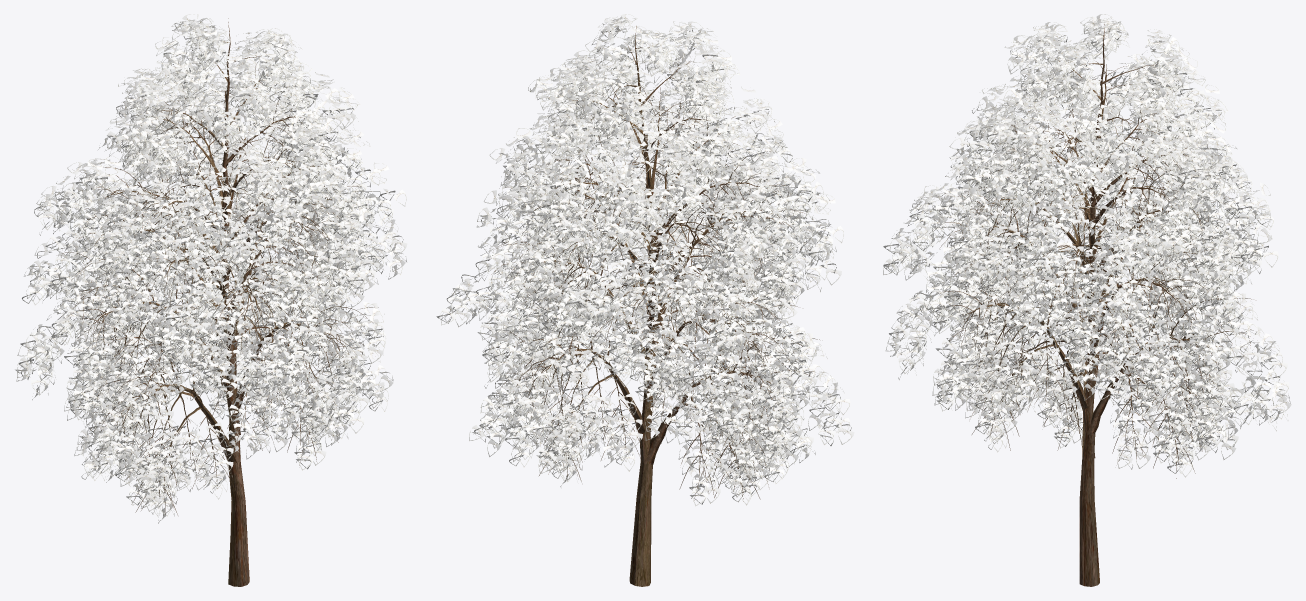
The model's file is tree.FBX.
The picture shows the model from 3 angles, left to right: view 1: azimuth 30°, elevation 25°; view 2: azimuth 150°, elevation 25°; view 3: azimuth 270°, elevation 25°; orthographic projection.
Visible parts, largest first — view 1: sub01, sub02; view 2: sub01, sub02; view 3: sub01, sub02.
Part boxes in pixels (x1=…): sub01: x1=34, y1=14, x2=407, y2=586; sub02: x1=15, y1=124, x2=393, y2=523; sub01: x1=477, y1=14, x2=843, y2=586; sub02: x1=436, y1=122, x2=854, y2=506; sub01: x1=909, y1=14, x2=1278, y2=586; sub02: x1=883, y1=121, x2=1291, y2=477.
Bounding box in the file's own units: 10.14 × 15.83 × 10.45.
Materials: 5 (5 with a texture image).
